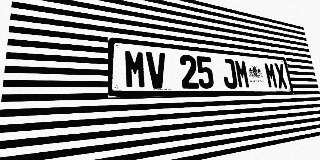2: (179, 54, 199, 89)
5: (196, 56, 215, 89)
J: (221, 58, 238, 88)
M: (124, 49, 147, 89), (234, 59, 251, 88), (264, 62, 278, 88)
V: (146, 51, 168, 89)
X: (274, 63, 288, 88)
